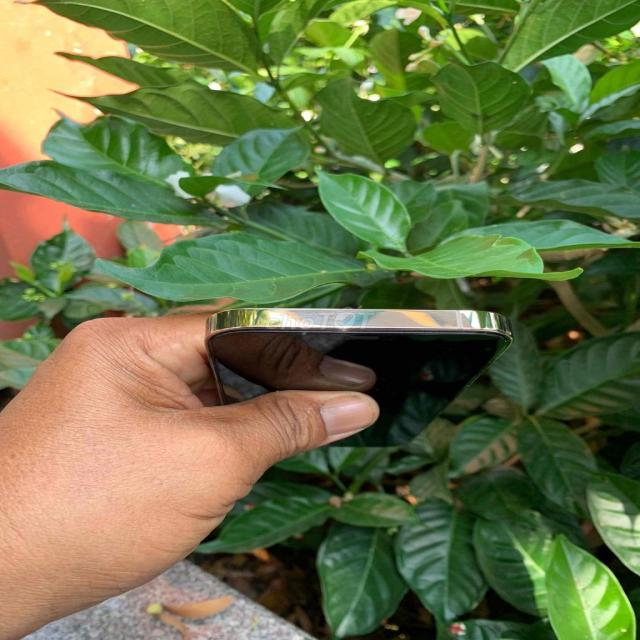gen_12_13: (193, 298, 520, 461)
